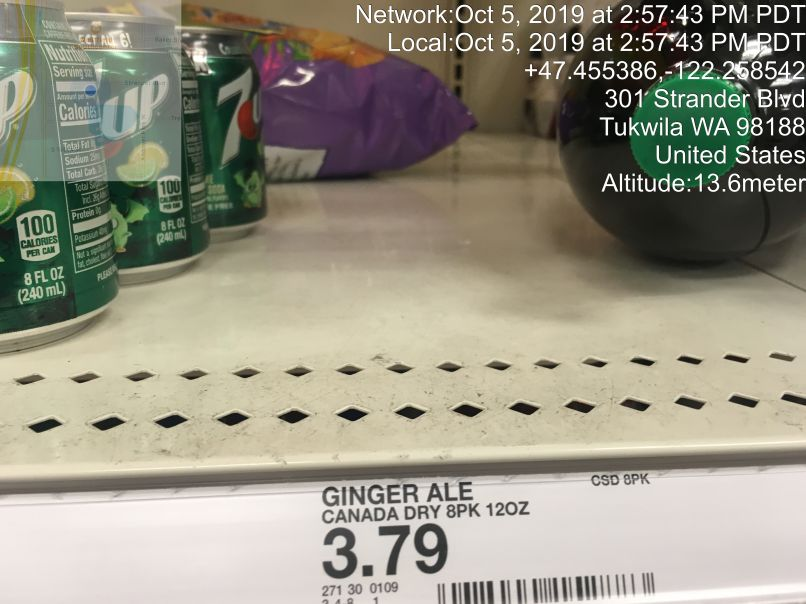Label: (304, 475, 663, 604)
Location: (593, 84, 806, 168)
Time: (350, 1, 806, 59)
Void: (275, 197, 578, 442)
